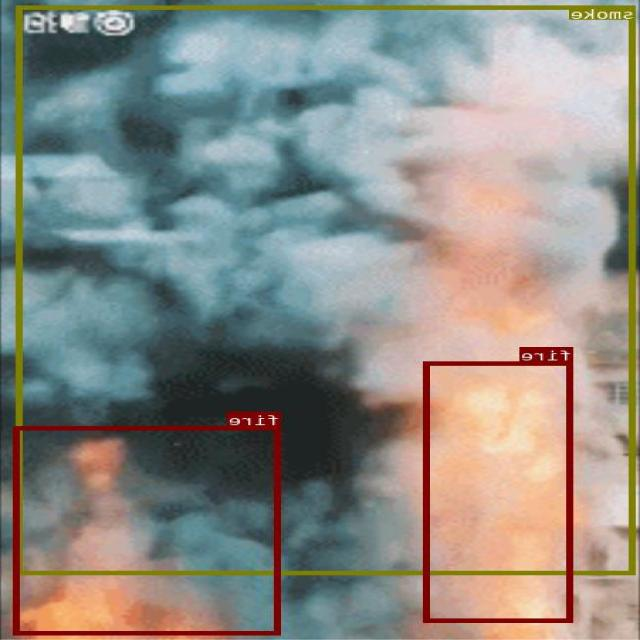fire: (14, 426, 282, 635), (425, 361, 574, 622)
smoke: (17, 6, 636, 574)
